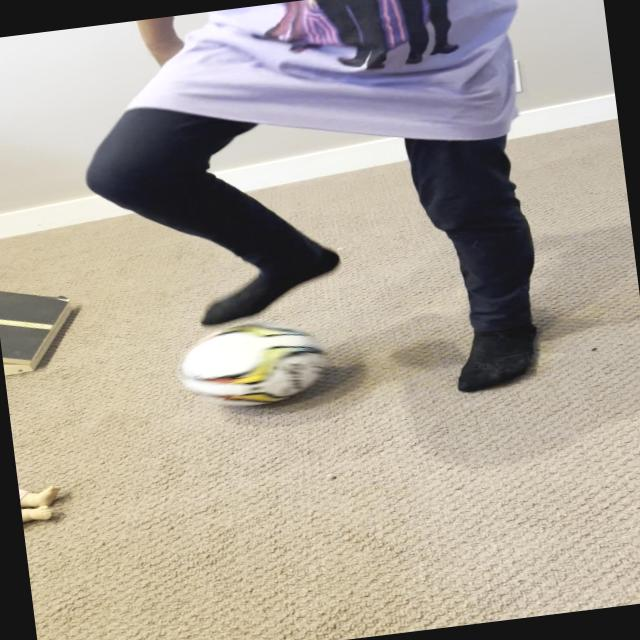Soccer Ball: (172, 316, 330, 414)
